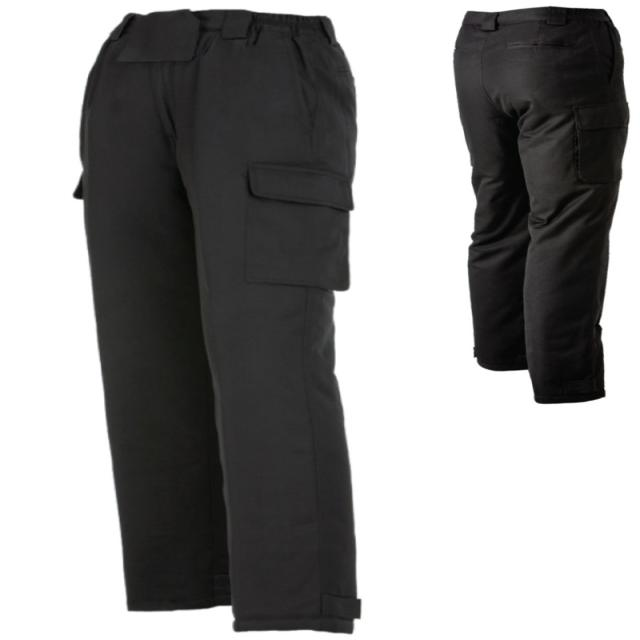pants: (71, 8, 369, 636), (445, 6, 631, 407)
